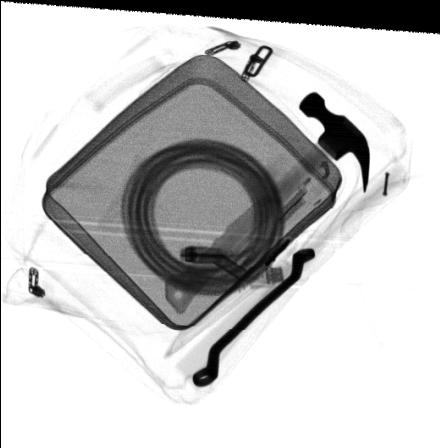Hammer: (164, 85, 369, 313)
Wrench: (192, 243, 314, 383)
